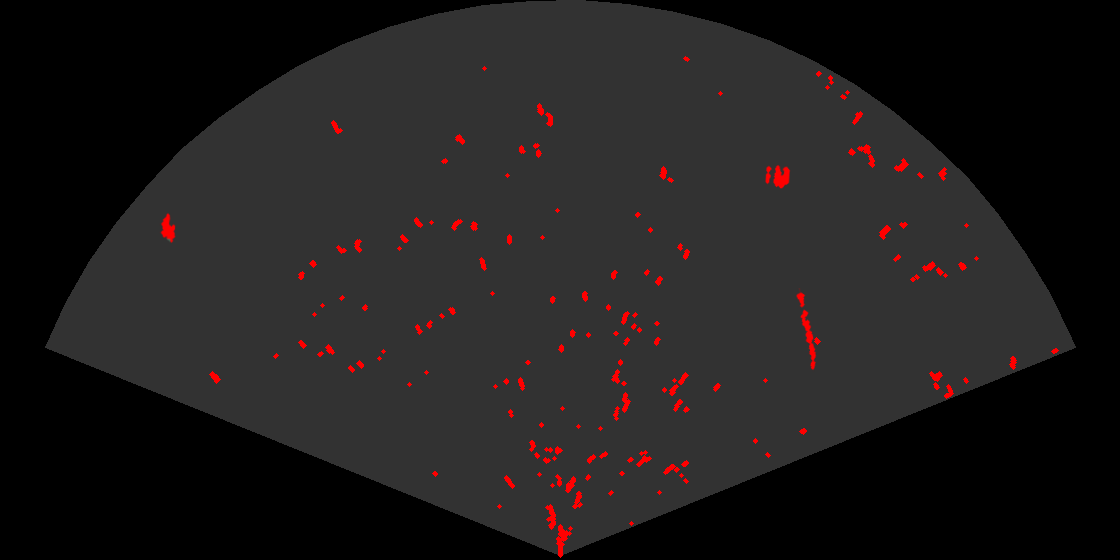AUV: (159, 211, 177, 245)
ball: (764, 163, 792, 190)
chain: (795, 288, 818, 372)
